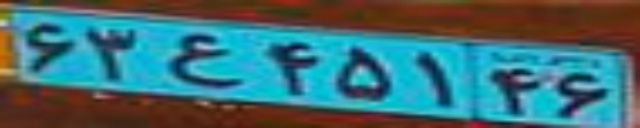1: (415, 49, 453, 106)
3: (84, 25, 139, 82)
4: (265, 40, 322, 95), (485, 65, 541, 116)
5: (335, 45, 392, 100)
6: (551, 71, 611, 118), (21, 21, 74, 73)
ain: (165, 31, 246, 89)
